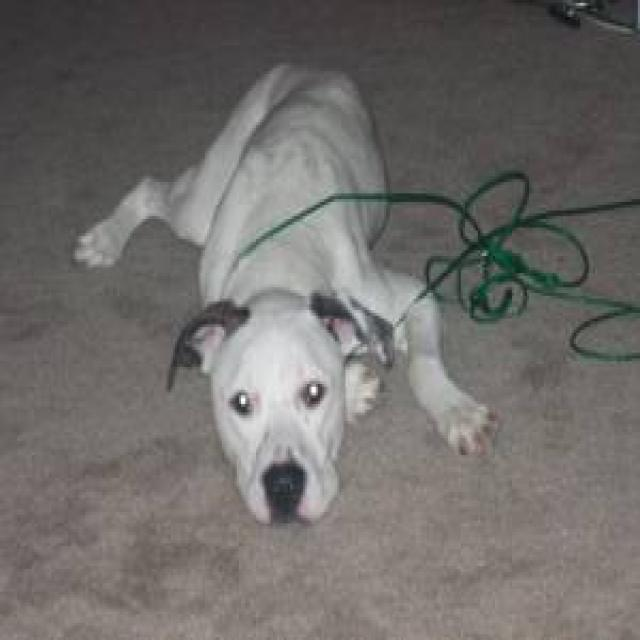dog-american_pit_bull_terrier: (70, 34, 503, 540)
